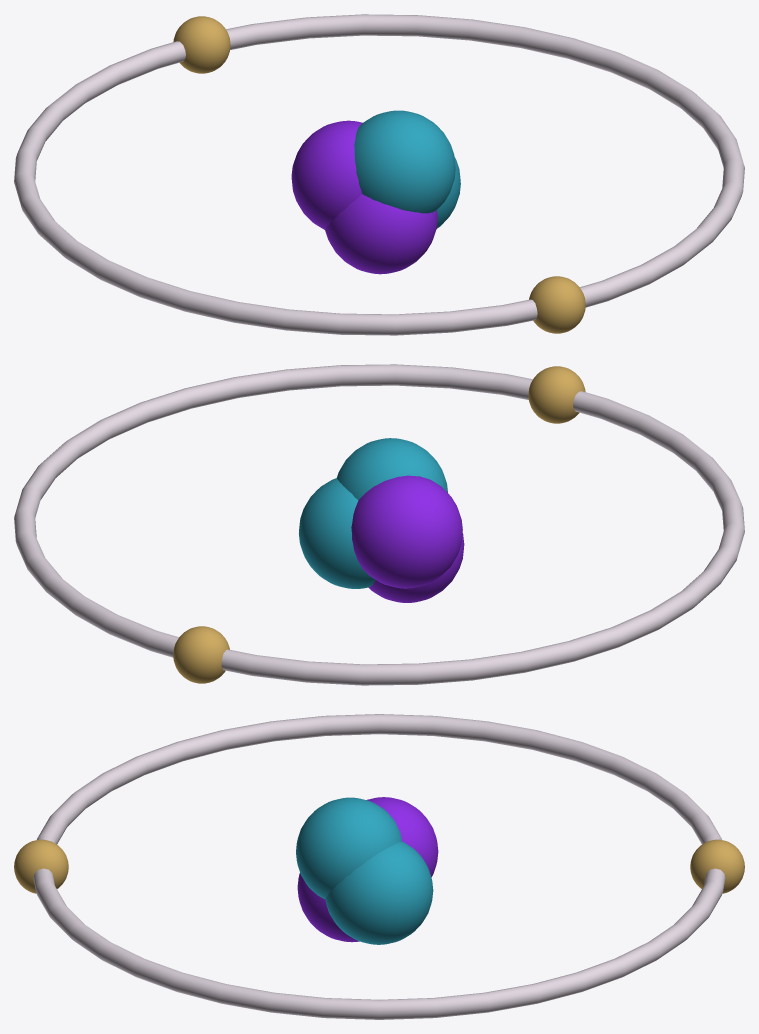
Rendered from helio.glb.
3 renders of one model, top to bottom at view 1: azimuth 30°, elevation 25°; view 2: azimuth 150°, elevation 25°; view 3: azimuth 270°, elevation 25°, orthographic. The views are drawn at different scales.
Visible parts, largest first — view 1: Orbita_1, Nucleo_Completo, Eletron_1, Eletron_2; view 2: Orbita_1, Nucleo_Completo, Eletron_2, Eletron_1; view 3: Orbita_1, Nucleo_Completo, Eletron_1, Eletron_2.
Boxes of the visible parts, x1,y1,x2,y2 form: Orbita_1: [14, 14, 744, 335]; Nucleo_Completo: [291, 110, 460, 274]; Eletron_1: [529, 276, 585, 333]; Eletron_2: [173, 16, 230, 73]; Orbita_1: [14, 364, 744, 685]; Nucleo_Completo: [299, 438, 464, 602]; Eletron_2: [173, 626, 229, 683]; Eletron_1: [528, 366, 585, 423]; Orbita_1: [33, 714, 725, 1019]; Nucleo_Completo: [296, 797, 438, 944]; Eletron_1: [14, 839, 68, 893]; Eletron_2: [690, 839, 744, 893].
Size of the model in its own units: 2.06 by 0.4646 by 2.16.
